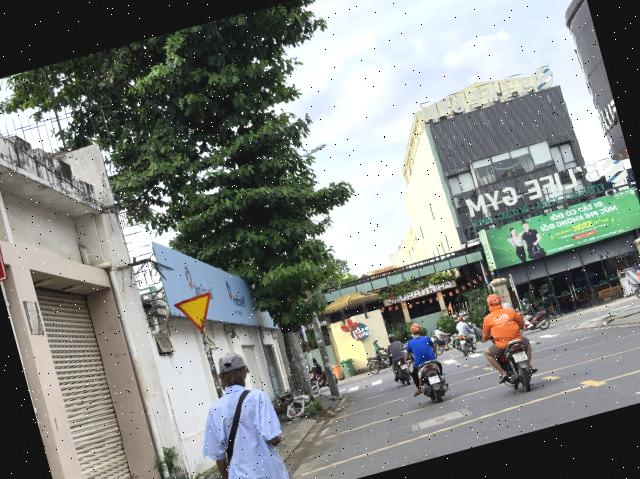giao-nhau-voi-duong-uu-tien: (173, 290, 220, 336)
